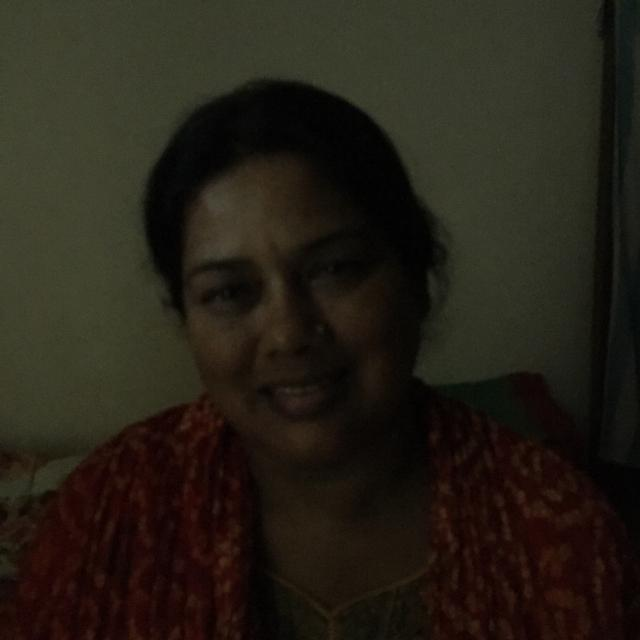Happy: (134, 104, 436, 483)
